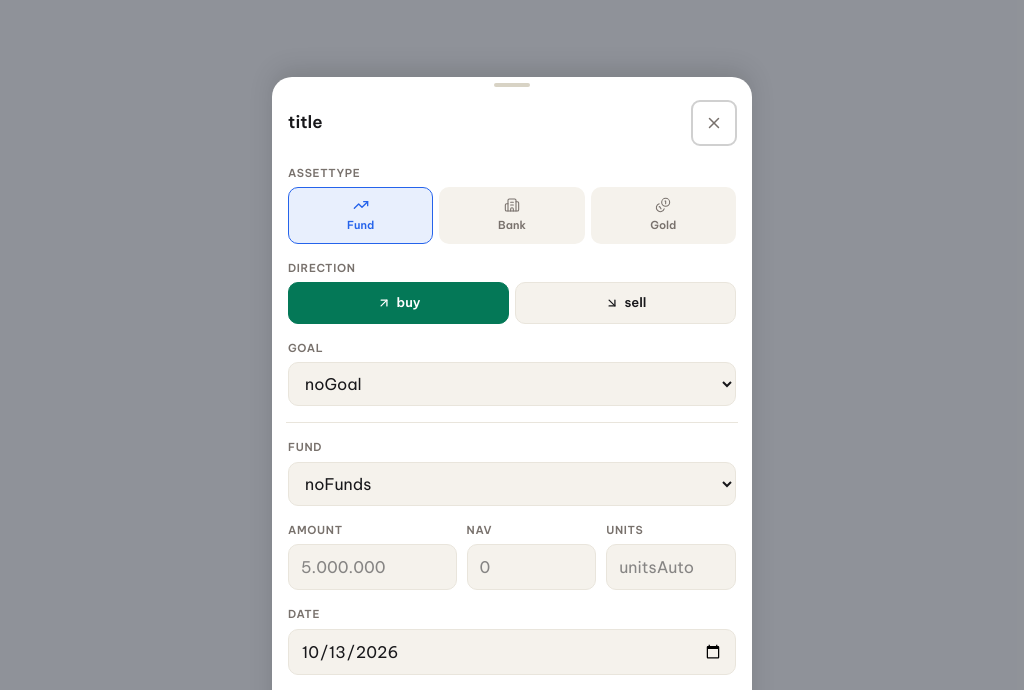
Scenario: AddTransactionSheet — sell holdings load error vs empty › shows a retry state (not "no holdings") when the holdings fetch fails
Click the button "sell". click: (626, 303)
box: [515,282,736,324]
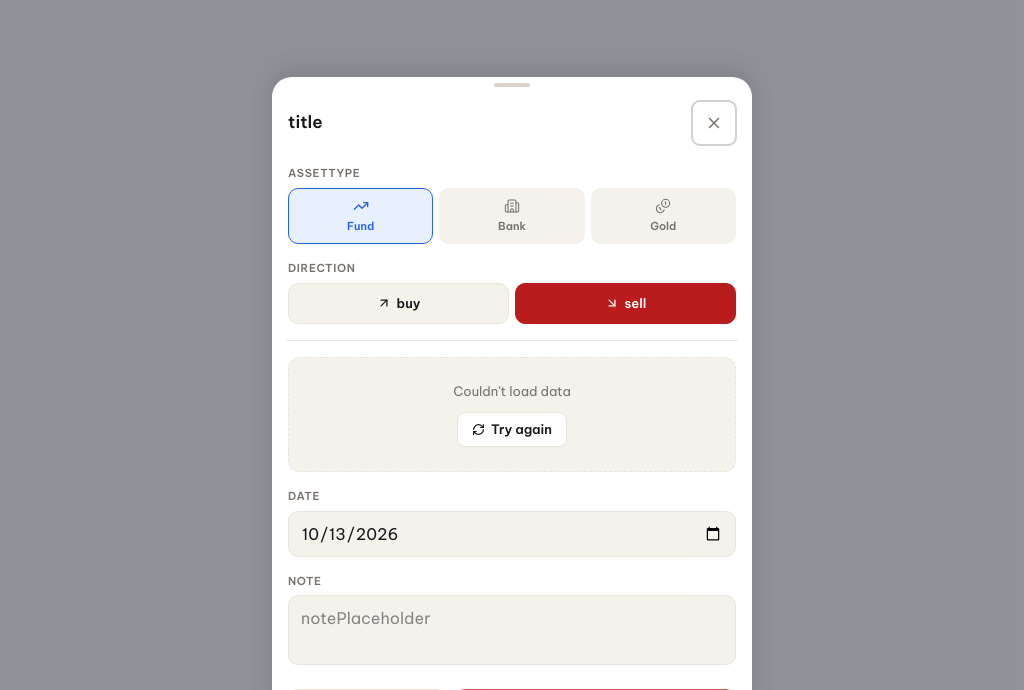
Now the message "Couldn't load data Try again" is shown, box [453,383,571,447]
